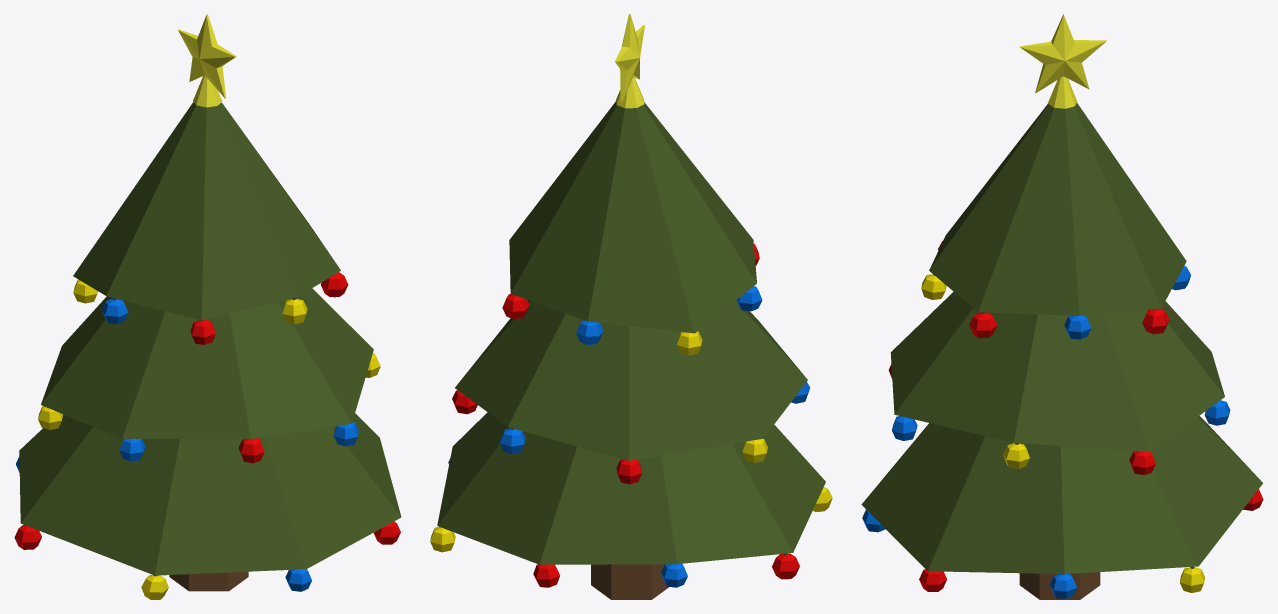
The picture shows the model from 3 angles, left to right: view 1: azimuth 30°, elevation 25°; view 2: azimuth 150°, elevation 25°; view 3: azimuth 270°, elevation 25°; orthographic projection.
Visible parts, largest first — view 1: leaf bot_50, leaf mid_51, leaf top_52, Star_54, tree base_55, Cone_53, glorb.007_18, glorb.017_42, glorb.003_10, glorb.022_0, glorb.021_26, glorb.005_14; view 2: leaf bot_50, leaf top_52, leaf mid_51, tree base_55, Star_54, glorb.005_14, glorb.002_8, glorb.011_30, glorb.019_46; view 3: leaf bot_50, leaf mid_51, leaf top_52, Star_54, tree base_55, Cone_53, glorb_16, glorb.008_20, glorb.001_6, glorb.014_36, glorb.006_28, glorb.016_40.
Boxes of the visible parts, x1,y1,x2,y2 form: leaf bot_50: (19, 413, 401, 575); leaf mid_51: (41, 288, 373, 438); leaf top_52: (73, 102, 340, 320); Star_54: (178, 14, 236, 98); tree base_55: (169, 571, 248, 591); Cone_53: (193, 75, 222, 107); glorb.007_18: (141, 575, 168, 599); glorb.017_42: (101, 298, 128, 323); glorb.003_10: (238, 438, 264, 463); glorb.022_0: (190, 319, 215, 344); glorb.021_26: (282, 299, 307, 324); glorb.005_14: (14, 525, 41, 549); leaf bot_50: (437, 412, 825, 564); leaf top_52: (509, 101, 756, 333); leaf mid_51: (455, 300, 807, 460); tree base_55: (591, 564, 668, 599); Star_54: (614, 14, 644, 102); glorb.005_14: (772, 553, 799, 579); glorb.002_8: (616, 459, 641, 484); glorb.011_30: (500, 428, 525, 453); glorb.019_46: (576, 320, 603, 344); leaf bot_50: (861, 416, 1262, 573); leaf mid_51: (890, 291, 1224, 451); leaf top_52: (929, 103, 1186, 315); Star_54: (1019, 14, 1106, 93); tree base_55: (1019, 572, 1100, 599); Cone_53: (1047, 76, 1077, 108); glorb_16: (969, 312, 997, 337); glorb.008_20: (1003, 443, 1029, 468); glorb.001_6: (1142, 309, 1169, 334); glorb.014_36: (1050, 574, 1076, 598); glorb.006_28: (1179, 567, 1205, 592); glorb.016_40: (1064, 315, 1091, 339).
Size of the model in its own units: 1.47 by 2.23 by 1.42.
